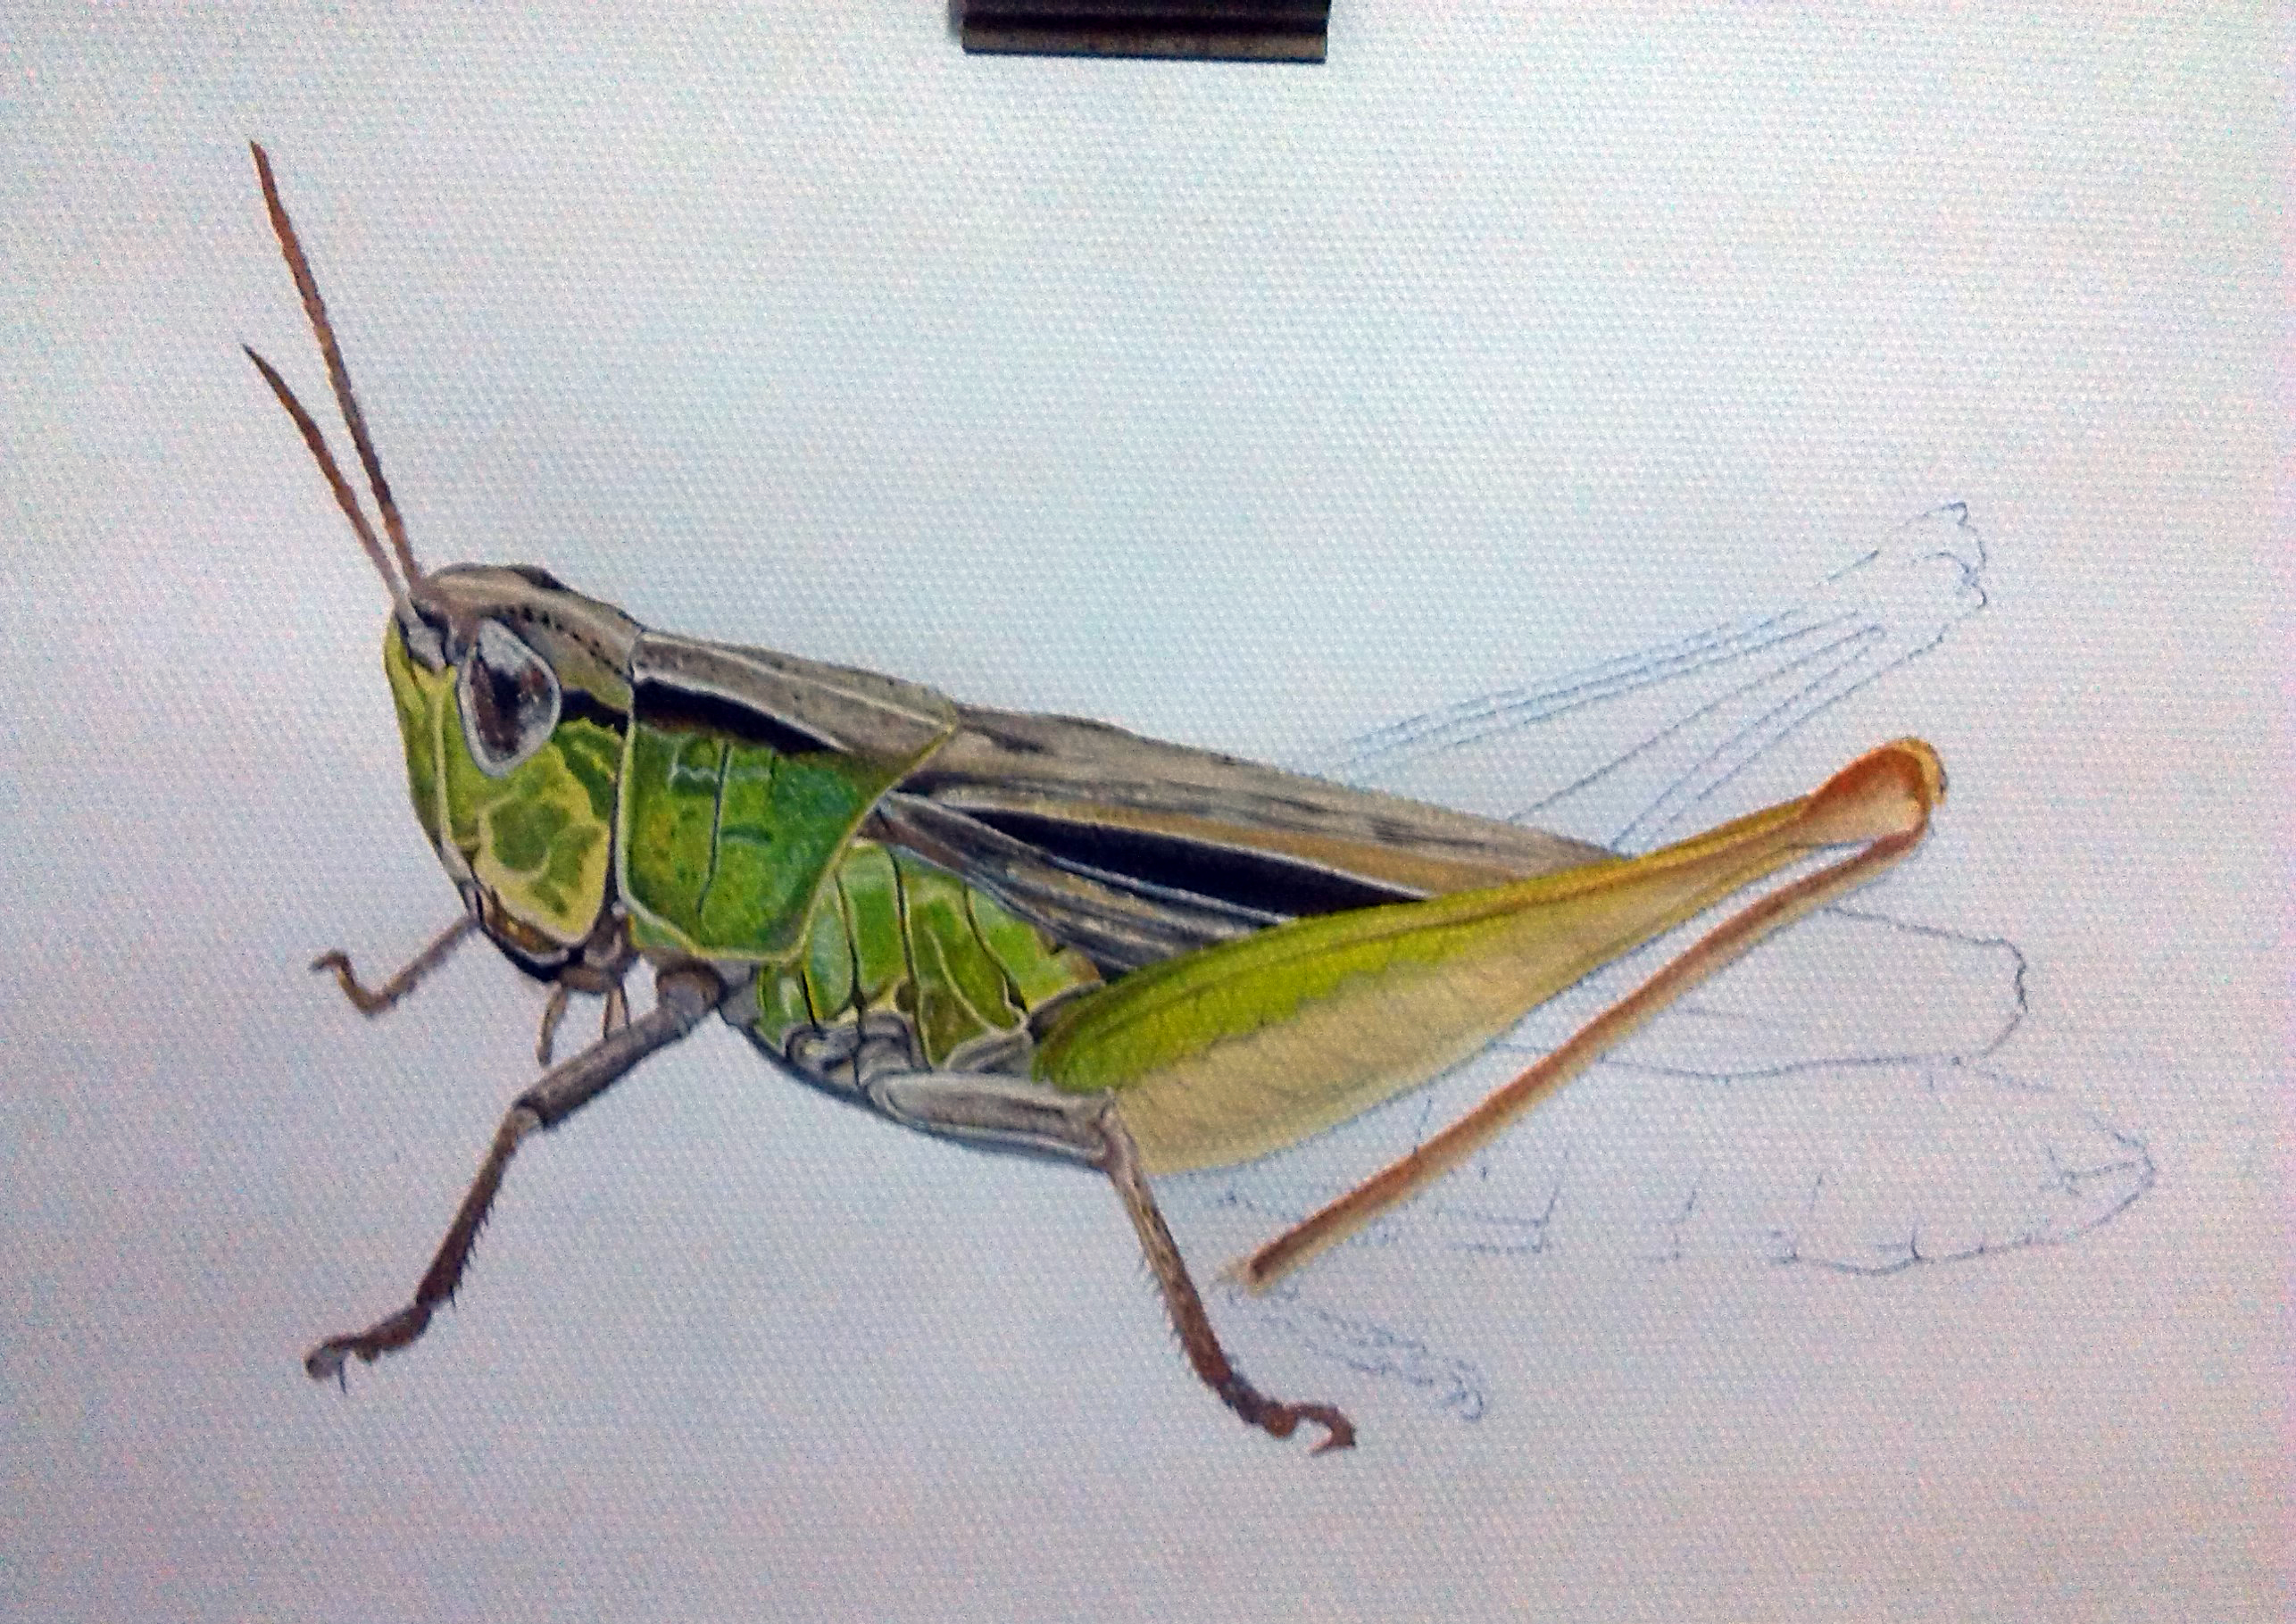huangchong: (267, 506, 2024, 1306)
